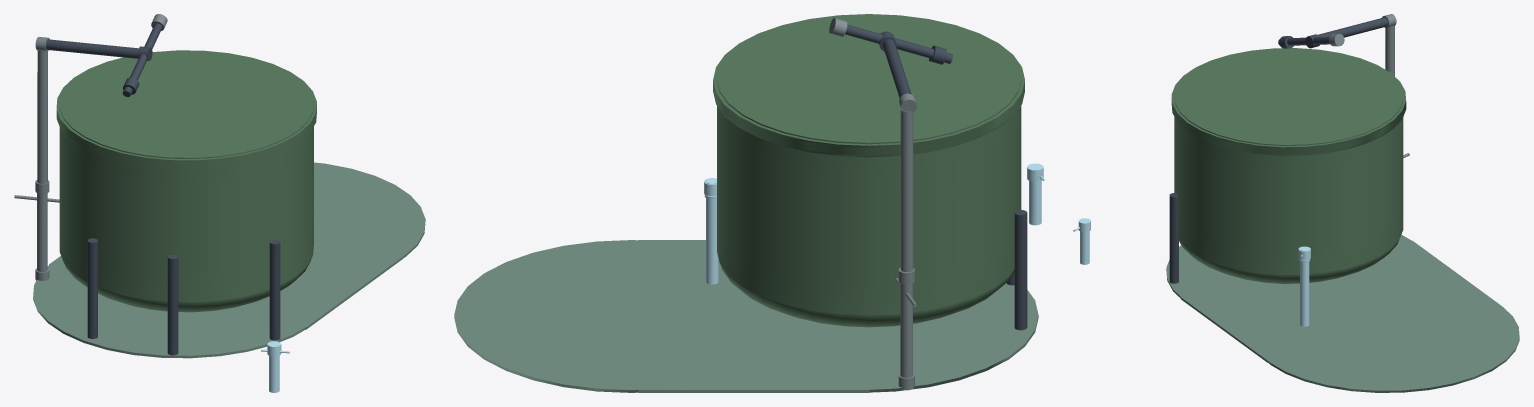
File: cauldron.gltf
3 renders of one model, left to right at view 1: azimuth 30°, elevation 25°; view 2: azimuth 150°, elevation 25°; view 3: azimuth 270°, elevation 25°, orthographic. The views are drawn at different scales.
Parts seen in each view (by area): view 1: Cauldron3, Base7, Base8, CauldronRing3, CauldronBottom3, Cylinder28, Base9, Cylinder23, Cylinder25, Cylinder24, Cylinder26, Cylinder22 (+2 smaller); view 2: Cauldron3, Base8, Base7, CauldronRing3, CauldronBottom3, Base9, Cylinder28, Cylinder24, Cylinder22, Cylinder20, Cylinder27, Cylinder26 (+1 smaller); view 3: Cauldron3, Base8, Base7, CauldronRing3, Base9, CauldronBottom3, Cylinder25, Cylinder20, Cylinder26, Cylinder28.
Part boxes in pixels (left/top/right/bottom): Cauldron3: left=59, top=50, right=313, bottom=302; Base7: left=33, top=256, right=329, bottom=358; Base8: left=310, top=162, right=425, bottom=281; CauldronRing3: left=56, top=50, right=316, bottom=169; CauldronBottom3: left=64, top=258, right=311, bottom=312; Cylinder28: left=37, top=50, right=47, bottom=183; Base9: left=49, top=256, right=403, bottom=329; Cylinder23: left=167, top=255, right=178, bottom=355; Cylinder25: left=269, top=240, right=280, bottom=340; Cylinder24: left=87, top=238, right=97, bottom=338; Cylinder26: left=46, top=39, right=138, bottom=58; Cylinder22: left=37, top=193, right=47, bottom=271; Cauldron3: left=717, top=14, right=1021, bottom=315; Base8: left=454, top=240, right=745, bottom=392; Base7: left=683, top=269, right=1038, bottom=392; CauldronRing3: left=713, top=14, right=1024, bottom=157; CauldronBottom3: left=721, top=266, right=1014, bottom=327; Base9: left=638, top=240, right=869, bottom=392; Cylinder28: left=900, top=109, right=913, bottom=272; Cylinder24: left=1014, top=210, right=1027, bottom=330; Cylinder22: left=900, top=283, right=912, bottom=377; Cylinder20: left=706, top=198, right=718, bottom=284; Cylinder27: left=845, top=24, right=952, bottom=63; Cylinder26: left=883, top=39, right=911, bottom=97; Cauldron3: left=1174, top=48, right=1403, bottom=274; Base8: left=1252, top=281, right=1519, bottom=392; Base7: left=1166, top=234, right=1433, bottom=327; CauldronRing3: left=1171, top=48, right=1406, bottom=155; Base9: left=1180, top=240, right=1499, bottom=362; CauldronBottom3: left=1179, top=240, right=1398, bottom=283; Cylinder25: left=1169, top=193, right=1178, bottom=283; Cylinder20: left=1300, top=261, right=1309, bottom=326; Cylinder26: left=1318, top=17, right=1388, bottom=37; Cylinder28: left=1385, top=25, right=1394, bottom=76.
Size of the model in its own units: 43.59 by 27.77 by 46.71.
